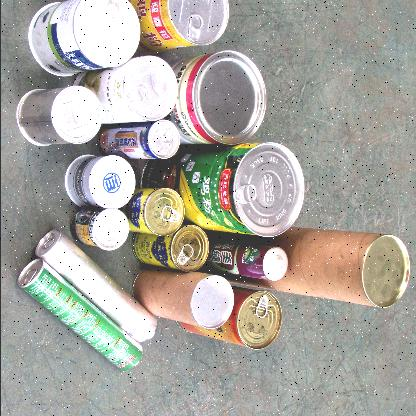Can: (34, 229, 156, 342), (17, 259, 141, 370), (163, 142, 303, 236), (271, 228, 409, 308), (165, 50, 265, 145), (28, 0, 139, 76), (73, 56, 176, 124), (177, 287, 281, 349), (132, 269, 233, 329), (15, 86, 101, 146), (129, 0, 228, 52), (64, 154, 134, 209), (132, 225, 208, 271), (201, 241, 287, 281), (98, 119, 179, 158), (120, 188, 184, 236), (70, 209, 128, 250)
